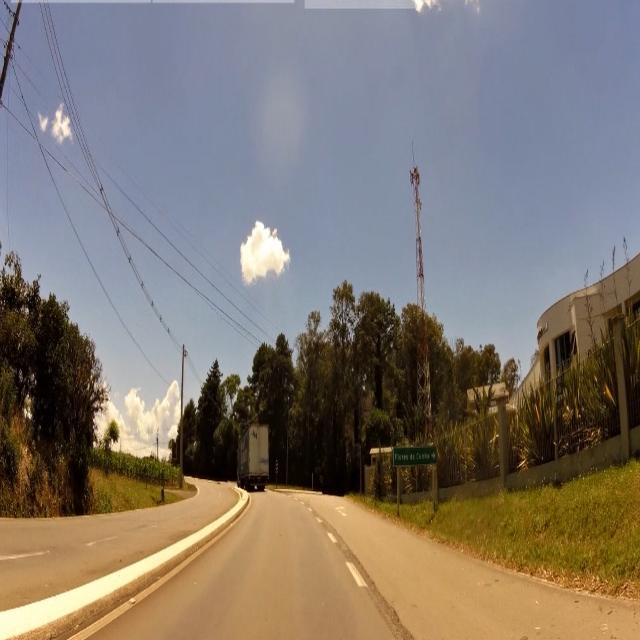I-4: (392, 444, 438, 467)
